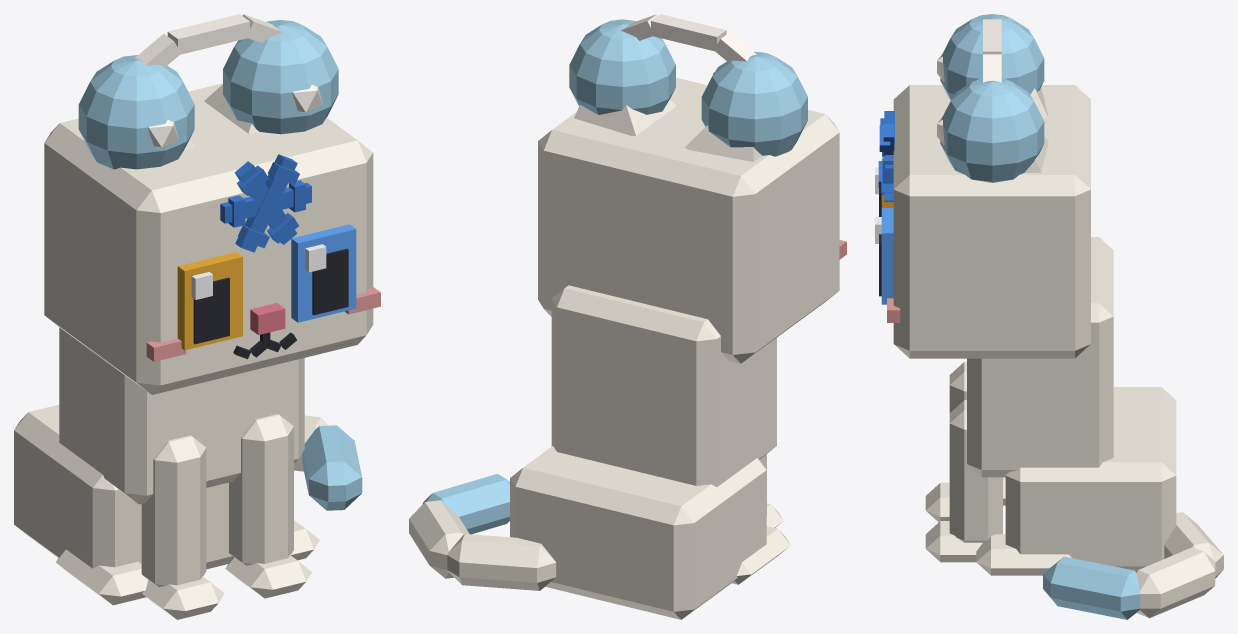
The model's file is CatCafe_Cat_Snow_Sit.fbx.
The picture shows the model from 3 angles, left to right: view 1: azimuth 30°, elevation 25°; view 2: azimuth 150°, elevation 25°; view 3: azimuth 270°, elevation 25°; orthographic projection. The views are drawn at different scales.
Parts seen in each view (by area): view 1: CatCafe_Cat_Snow_Sit_Head, CatCafe_Cat_Snow_Sit_Body, CatCafe_Cat_Snow_Sit_Prop, CatCafe_Cat_Snow_Sit_LegF2, CatCafe_Cat_Snow_Sit_LegF1, CatCafe_Cat_Snow_Sit_Eye1, CatCafe_Cat_Snow_Sit_Eye2, CatCafe_Cat_Snow_Sit_Tail, CatCafe_Cat_Snow_Sit_EarL; view 2: CatCafe_Cat_Snow_Sit_Body, CatCafe_Cat_Snow_Sit_Head, CatCafe_Cat_Snow_Sit_Prop, CatCafe_Cat_Snow_Sit_Tail, CatCafe_Cat_Snow_Sit_EarL, CatCafe_Cat_Snow_Sit_EarR; view 3: CatCafe_Cat_Snow_Sit_Head, CatCafe_Cat_Snow_Sit_Body, CatCafe_Cat_Snow_Sit_Prop, CatCafe_Cat_Snow_Sit_Tail, CatCafe_Cat_Snow_Sit_LegF1, CatCafe_Cat_Snow_Sit_LegF2, CatCafe_Cat_Snow_Sit_Eye1.
Boxes of the visible parts, x1,y1,x2,y2 form: CatCafe_Cat_Snow_Sit_Head: (44, 83, 380, 394); CatCafe_Cat_Snow_Sit_Body: (14, 327, 319, 605); CatCafe_Cat_Snow_Sit_Prop: (78, 14, 338, 169); CatCafe_Cat_Snow_Sit_LegF2: (141, 435, 224, 619); CatCafe_Cat_Snow_Sit_LegF1: (225, 414, 312, 598); CatCafe_Cat_Snow_Sit_Eye1: (291, 224, 356, 322); CatCafe_Cat_Snow_Sit_Eye2: (177, 252, 242, 350); CatCafe_Cat_Snow_Sit_Tail: (294, 415, 362, 510); CatCafe_Cat_Snow_Sit_EarL: (204, 84, 259, 133); CatCafe_Cat_Snow_Sit_Body: (510, 285, 790, 619); CatCafe_Cat_Snow_Sit_Head: (538, 72, 846, 363); CatCafe_Cat_Snow_Sit_Prop: (569, 14, 807, 156); CatCafe_Cat_Snow_Sit_Tail: (409, 474, 556, 590); CatCafe_Cat_Snow_Sit_EarL: (574, 99, 676, 135); CatCafe_Cat_Snow_Sit_EarR: (684, 125, 761, 161); CatCafe_Cat_Snow_Sit_Head: (878, 85, 1090, 358); CatCafe_Cat_Snow_Sit_Body: (967, 237, 1176, 575); CatCafe_Cat_Snow_Sit_Prop: (937, 14, 1044, 182); CatCafe_Cat_Snow_Sit_Tail: (1043, 512, 1223, 619); CatCafe_Cat_Snow_Sit_LegF1: (925, 400, 1002, 562); CatCafe_Cat_Snow_Sit_LegF2: (925, 361, 966, 522); CatCafe_Cat_Snow_Sit_Eye1: (875, 208, 893, 304).
Bounding box in the file's own units: 1.25 × 1.97 × 1.24.
Materials: 1 (1 with a texture image).
